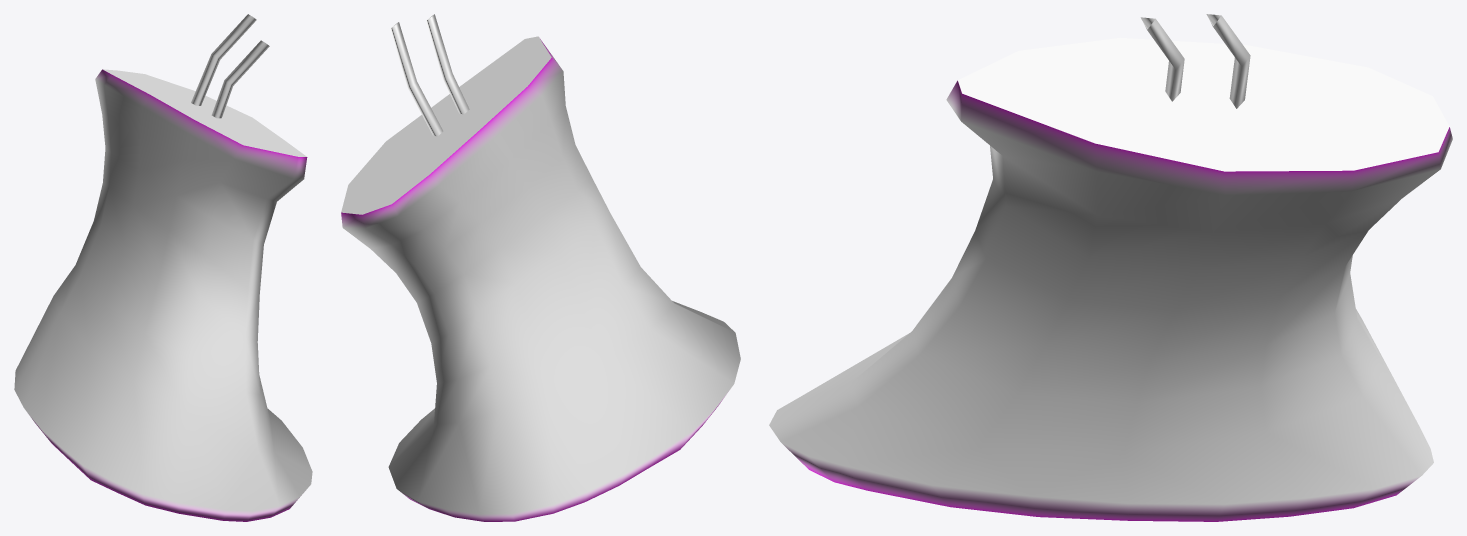
Rendered from Car_Ford_GT_2017_MirrorBaseL_SetE.fbx.
3 renders of one model, left to right at view 1: azimuth 30°, elevation 25°; view 2: azimuth 150°, elevation 25°; view 3: azimuth 270°, elevation 25°, orthographic. The views are drawn at different scales.
Visible parts, largest first — view 1: MirrorBaseL 5; view 2: MirrorBaseL 5; view 3: MirrorBaseL 5.
Part boxes in pixels (x1,y1,x2,y2): MirrorBaseL 5: (14, 14, 312, 521); MirrorBaseL 5: (341, 14, 740, 521); MirrorBaseL 5: (769, 14, 1452, 521).
Size of the model in its own units: 0.0757 by 0.1208 by 0.1379.
